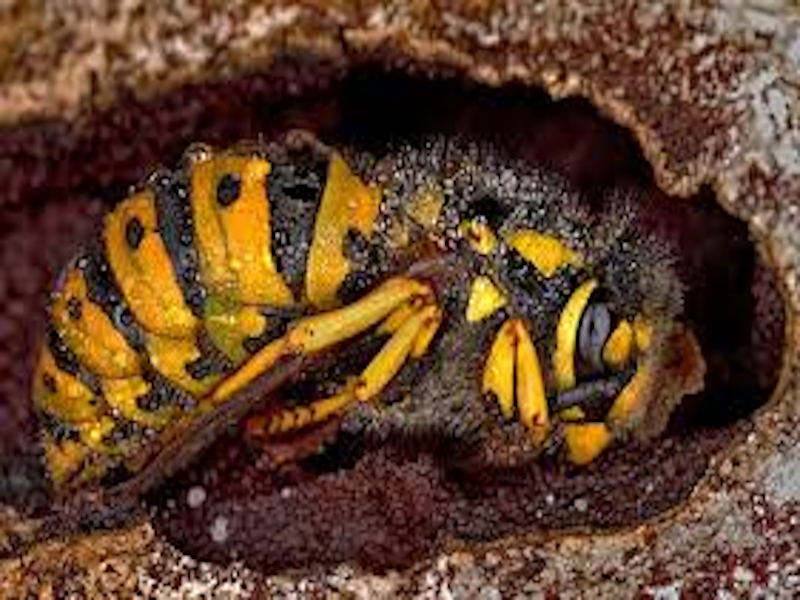chax: (25, 75, 749, 546)
